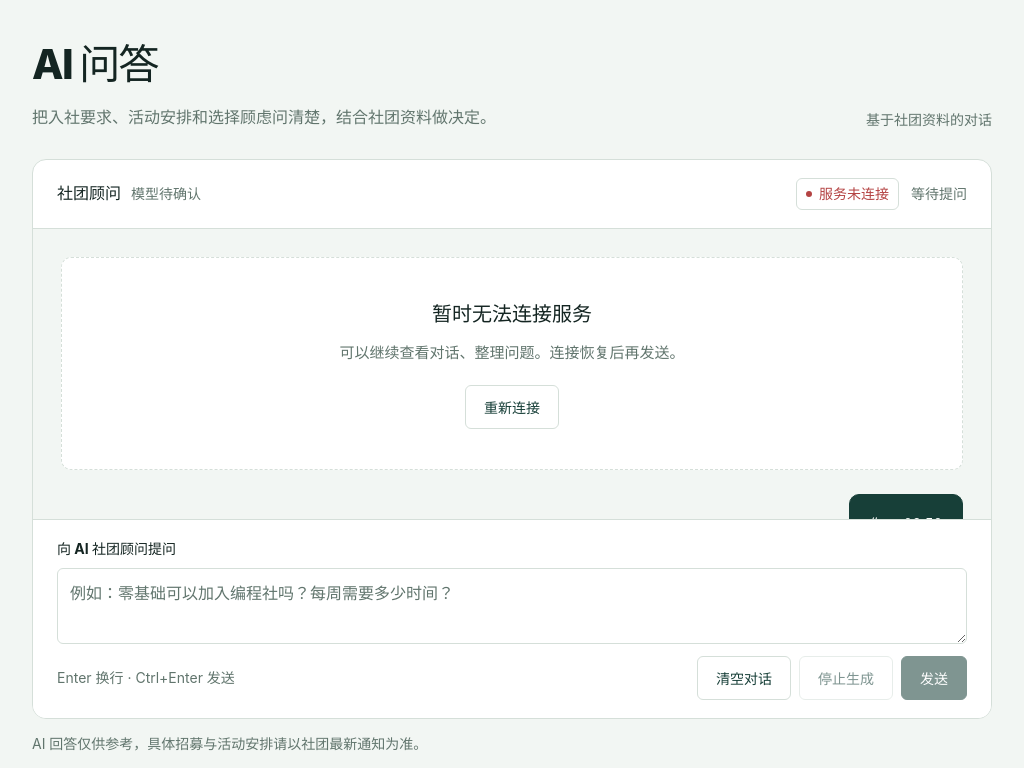
Chat decision workspace › disables only sending when the backend is unreachable, preserves drafts/history and reconnects
Type "保留我的草稿" into the text box labelled "向 AI 社团顾问提问" at point(512, 606), box [57,568,967,644]
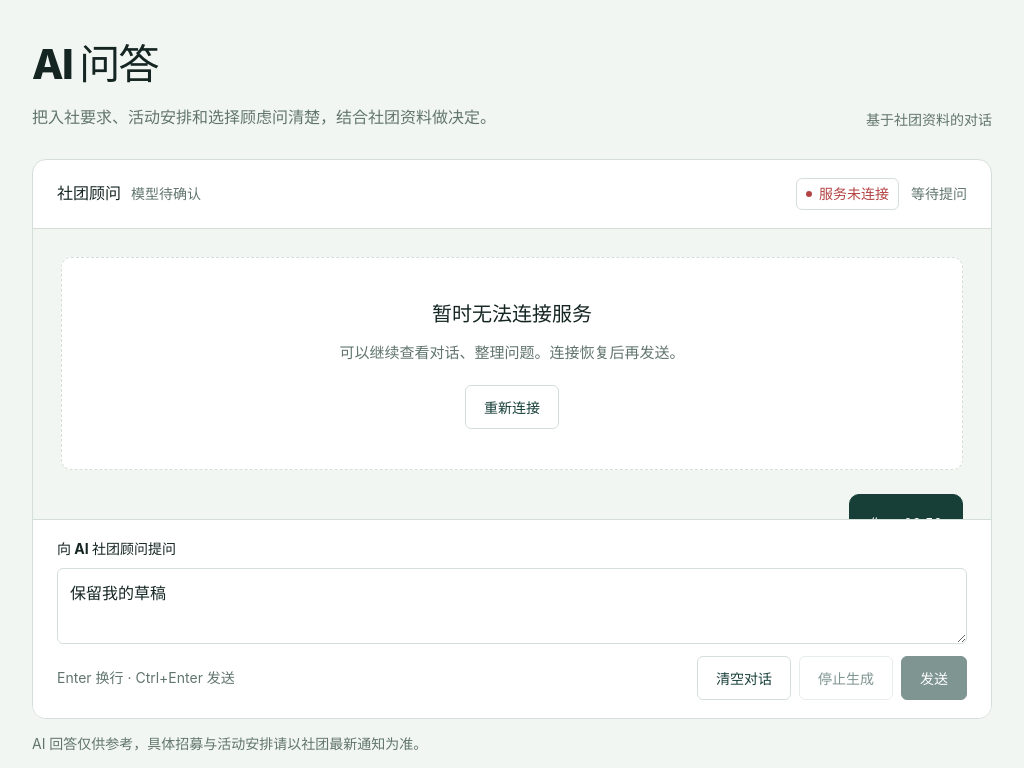
Expected: the submit button is disabled, [901,656,967,700]
Expected: the button "清空对话" is enabled, [697,656,791,700]
Click the button "重新连接" at point(512, 407), box [465,385,559,429]
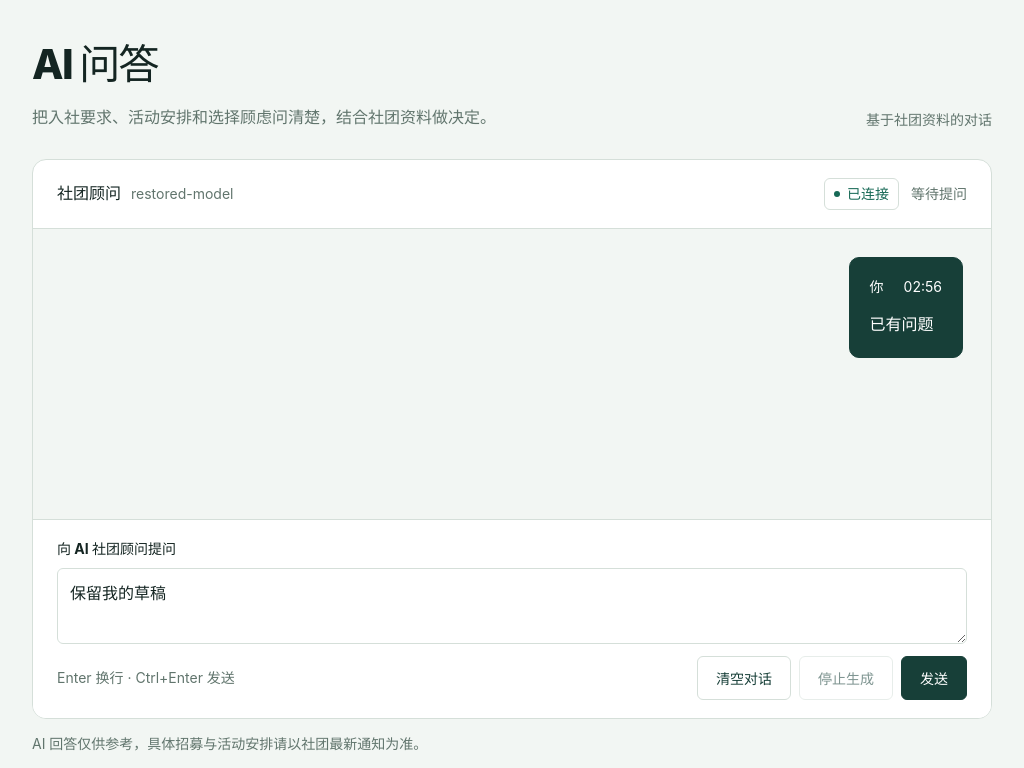
Expected: the submit button is enabled, [901,656,967,700]
Expected: the text "restored-model" is shown, [131,183,233,206]
